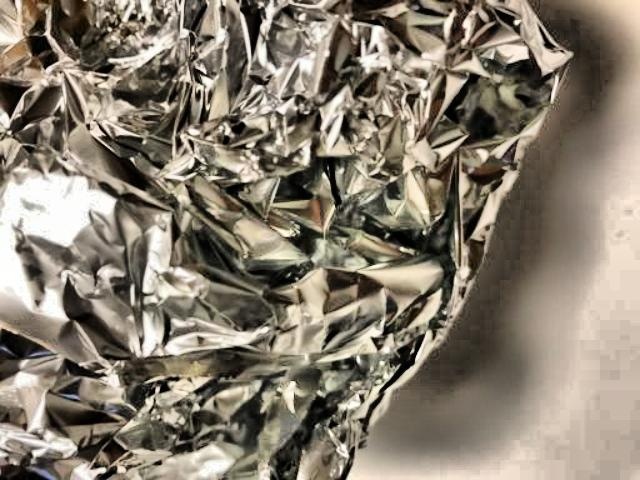Almennt: (0, 0, 578, 480)
